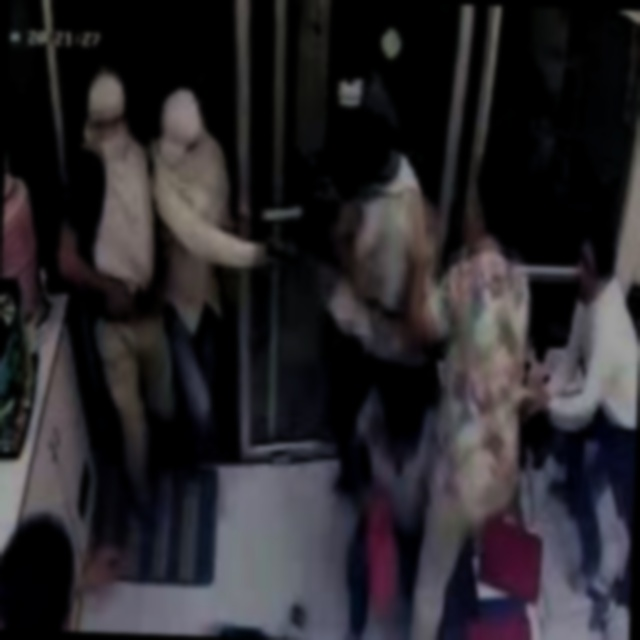gun: (118, 278, 160, 327), (259, 231, 307, 266)
